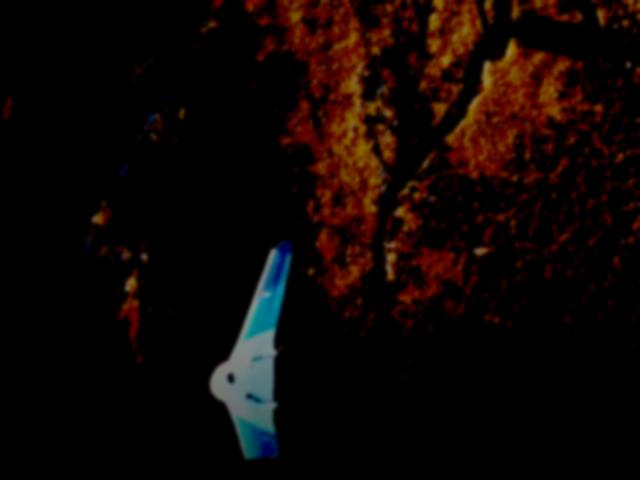iha: (205, 235, 312, 466)
